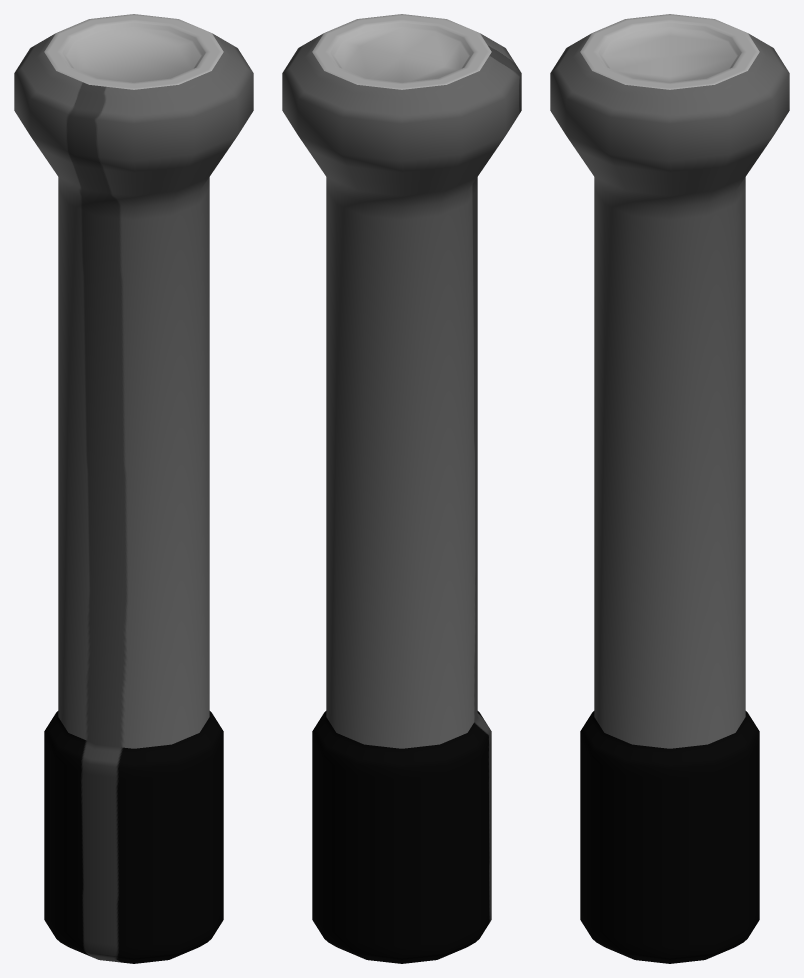
Rendered from Flashlight.fbx.
3 views of the same model, side by side, from view 1: azimuth 30°, elevation 25°; view 2: azimuth 150°, elevation 25°; view 3: azimuth 270°, elevation 25° (orthographic).
Visible parts, largest first — view 1: Flashlight; view 2: Flashlight; view 3: Flashlight.
Boxes of the visible parts, x1,y1,x2,y2 form: Flashlight: (14,14,253,963); Flashlight: (282,14,521,963); Flashlight: (550,14,789,963).
Size of the model in its own units: 119 by 484 by 119.
